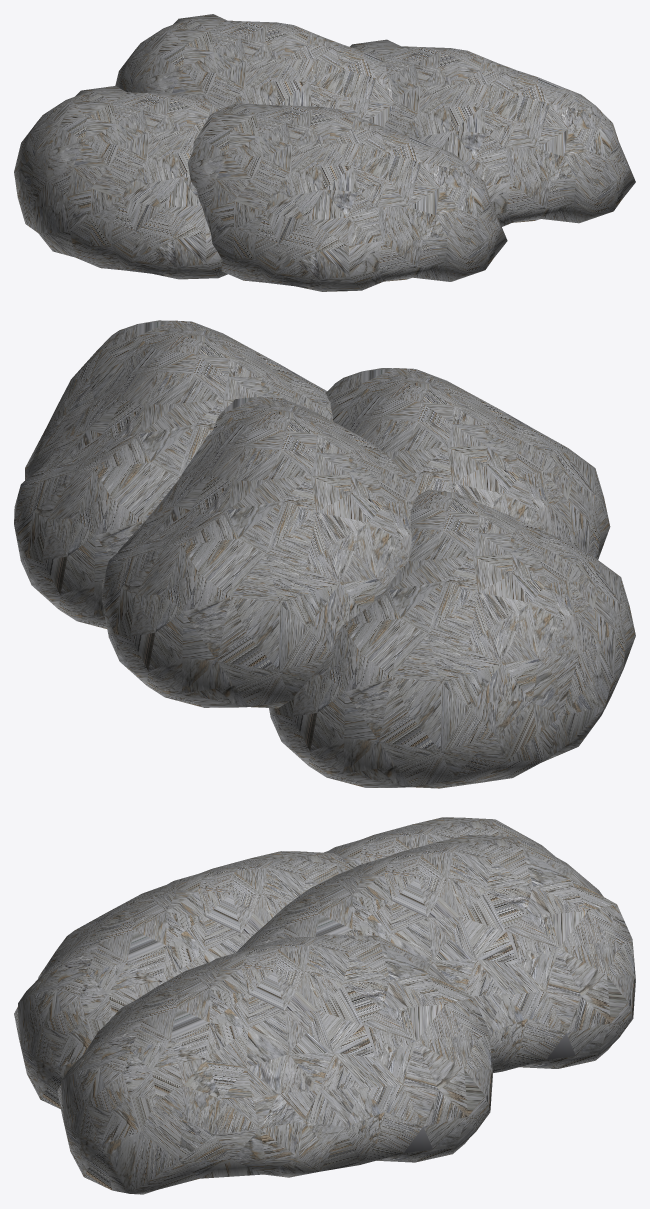
Rendered from Rocks.fbx.
3 renders of one model, top to bottom at view 1: azimuth 30°, elevation 25°; view 2: azimuth 150°, elevation 25°; view 3: azimuth 270°, elevation 25°, orthographic. The views are drawn at different scales.
Parts seen in each view (by area): view 1: polySurface203; view 2: polySurface203; view 3: polySurface203.
Boxes of the visible parts, <box> form: polySurface203: <box>14,14,635,291</box>; polySurface203: <box>14,320,635,788</box>; polySurface203: <box>14,817,635,1194</box>.
Size of the model in its own units: 96.4 by 36.56 by 83.22.
Materials: 1 (1 with a texture image).
